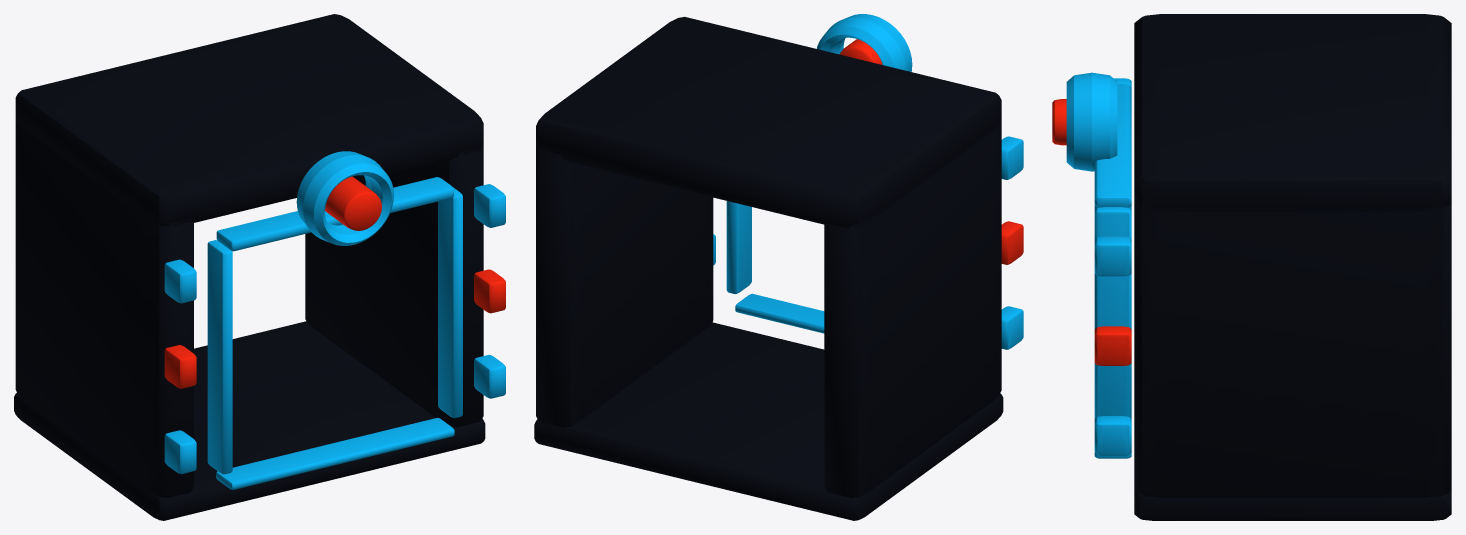
Rendered from goal.obj.
3 views of the same model, side by side, from view 1: azimuth 30°, elevation 25°; view 2: azimuth 150°, elevation 25°; view 3: azimuth 270°, elevation 25° (orthographic). The views are drawn at different scales.
Parts seen in each view (by area): view 1: Goal; view 2: Goal; view 3: Goal.
Boxes of the visible parts, x1,y1,x2,y2 form: Goal: (14,14,505,520); Goal: (534,14,1023,520); Goal: (1052,14,1451,520).
Bounding box in the file's own units: 1 × 1 × 1.
3 materials, 3 textured.
